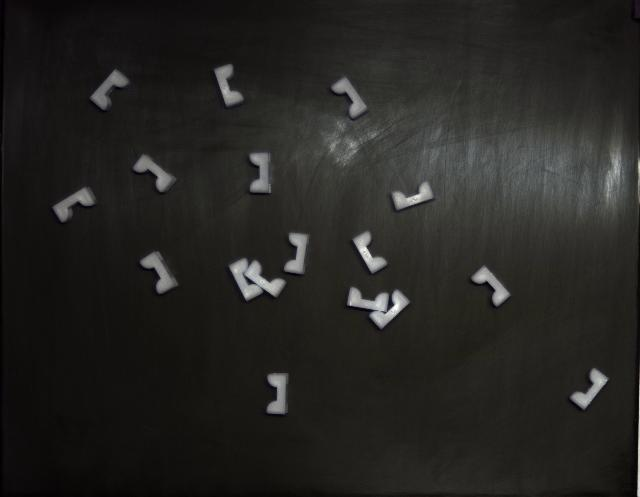third_side: (90, 69, 131, 111), (140, 251, 179, 295), (132, 154, 176, 192), (369, 290, 410, 330), (471, 266, 510, 308), (570, 369, 609, 410), (331, 76, 368, 119), (52, 188, 98, 222), (352, 231, 388, 274), (214, 64, 244, 108), (391, 181, 434, 211), (284, 232, 309, 275), (348, 288, 389, 312), (266, 374, 289, 415), (249, 152, 271, 194)
